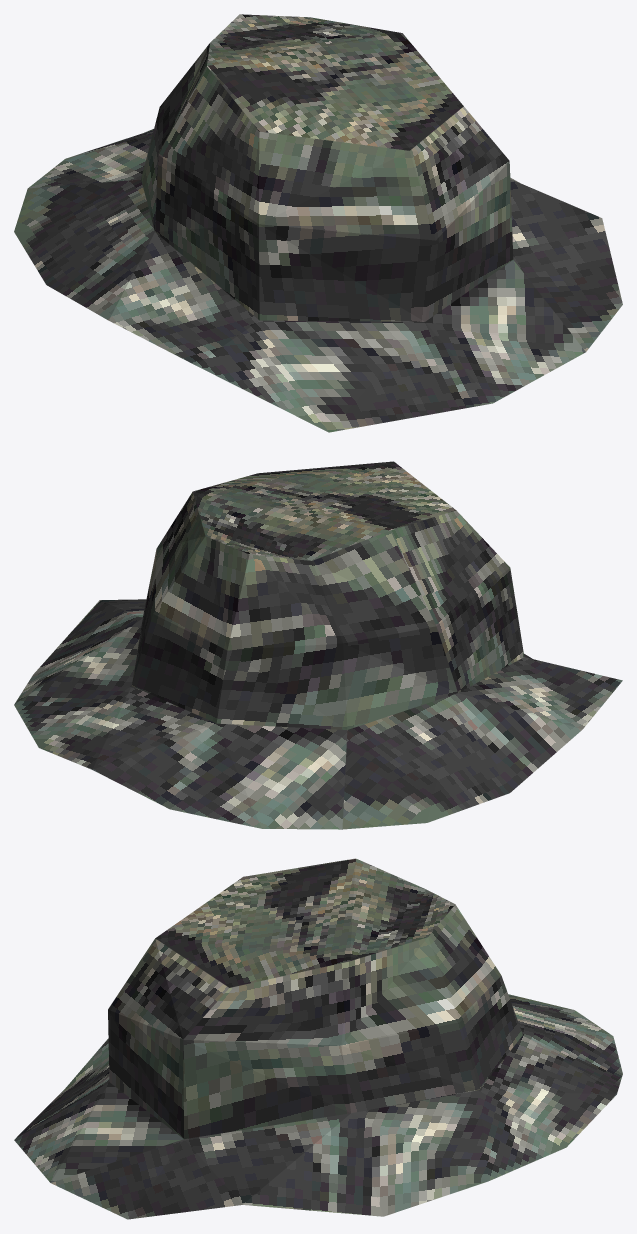
Rendered from recovered_gear_seal_hat_tiger_cd77f3df0ed1.glb.
3 views of the same model, one above another, from view 1: azimuth 30°, elevation 25°; view 2: azimuth 150°, elevation 25°; view 3: azimuth 270°, elevation 25° (orthographic). The views are drawn at different scales.
Parts seen in each view (by area): view 1: seal_hat_tiger; view 2: seal_hat_tiger; view 3: seal_hat_tiger.
Part boxes in pixels (x1,y1,x2,y2): seal_hat_tiger: [14, 14, 622, 432]; seal_hat_tiger: [14, 461, 622, 829]; seal_hat_tiger: [14, 858, 622, 1219].
Bounding box in the file's own units: 0.3018 × 0.1508 × 0.3418.
Materials: 1 (1 with a texture image).
